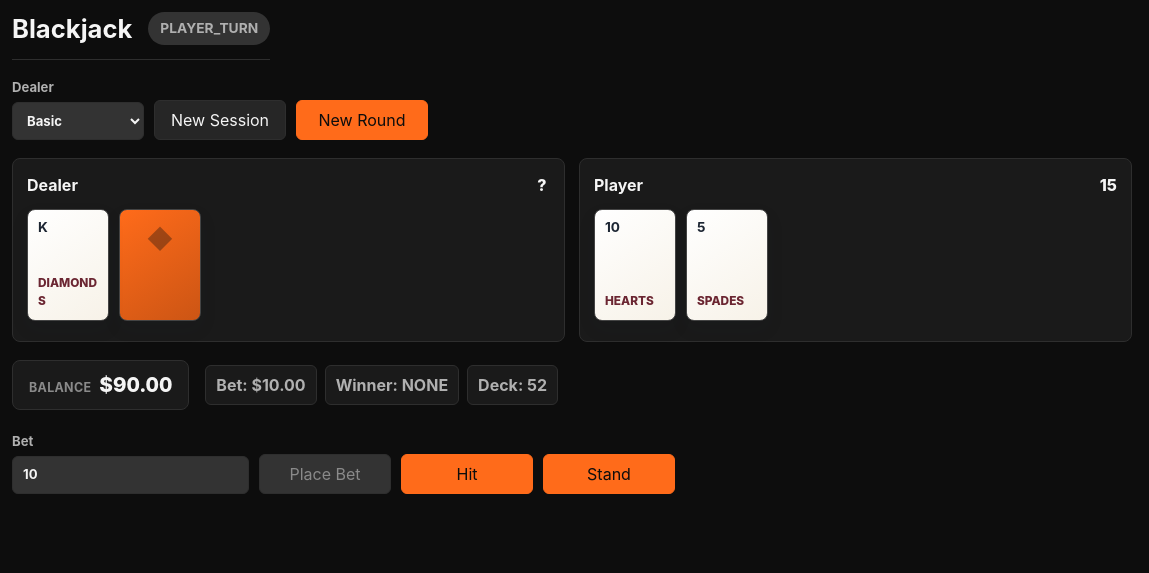
Test: Area 1 - network failure during mutating actions › stand failure: error surfaced, busy cleared, state unchanged
Click the button "Stand".
click(609, 474)  # box [543,454,675,494]
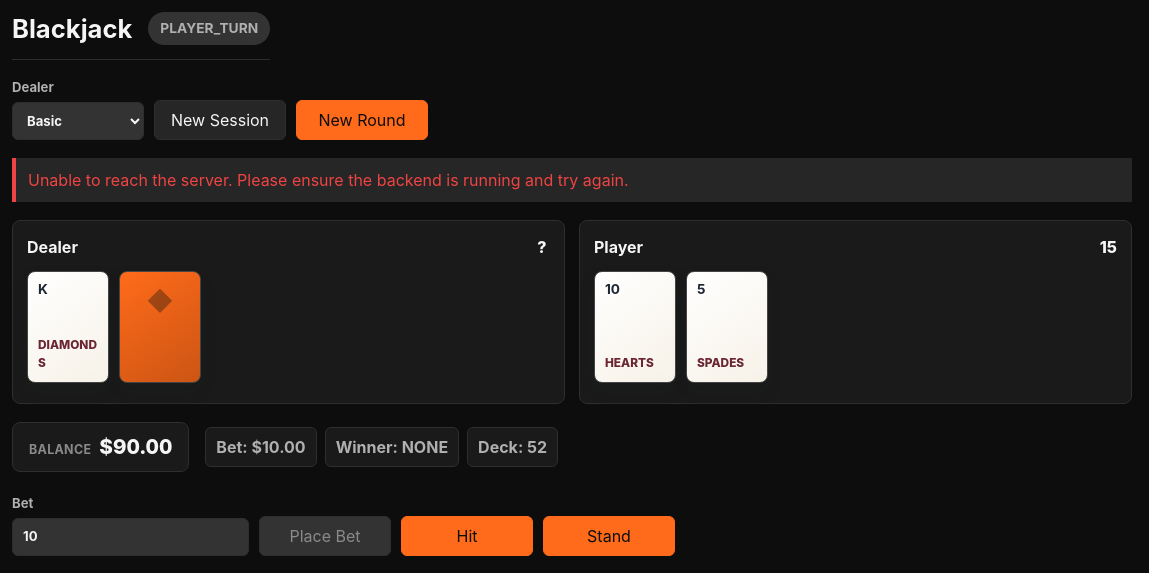
Expected: the button "Stand" is enabled, [543,516,675,556]
Result: the message is shown at [12,158,1132,202]
Result: the message reads "Unable to reach the server. Please ensure the backend is running and try again." at [28,170,629,190]
